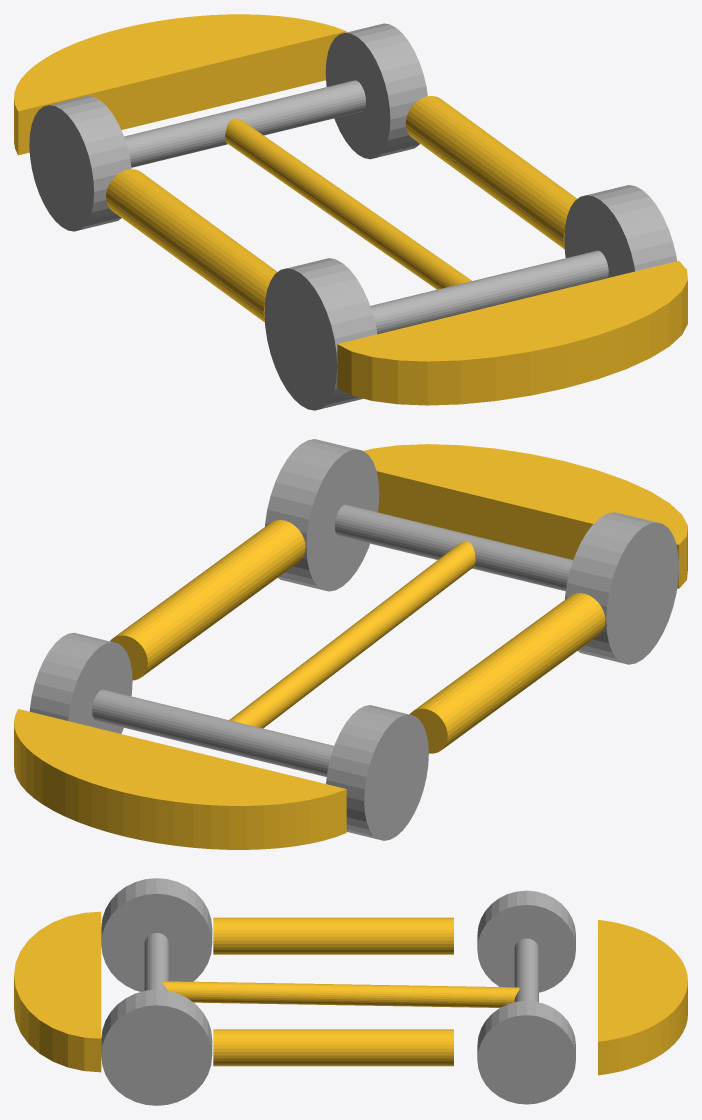
File: yellow_car.fbx
3 renders of one model, top to bottom at view 1: azimuth 30°, elevation 25°; view 2: azimuth 150°, elevation 25°; view 3: azimuth 270°, elevation 25°, orthographic. The views are drawn at different scales.
Visible parts, largest first — view 1: estrutura_a_volta, rodas frente, rodas tras, eixo meio; view 2: estrutura_a_volta, rodas tras, rodas frente, eixo meio; view 3: estrutura_a_volta, rodas tras, rodas frente, eixo meio.
Boxes of the visible parts, bbox=[...] form: estrutura_a_volta: bbox=[14, 14, 687, 405]; rodas frente: bbox=[29, 23, 427, 231]; rodas tras: bbox=[264, 185, 676, 410]; eixo meio: bbox=[225, 118, 471, 289]; estrutura_a_volta: bbox=[14, 444, 687, 849]; rodas tras: bbox=[265, 439, 678, 664]; rodas frente: bbox=[29, 632, 428, 840]; eixo meio: bbox=[229, 541, 475, 728]; estrutura_a_volta: bbox=[14, 911, 687, 1075]; rodas tras: bbox=[101, 878, 212, 1105]; rodas frente: bbox=[477, 890, 575, 1104]; eixo meio: bbox=[162, 981, 519, 1007].
Bounding box in the file's own units: 488 × 180 × 1093.
